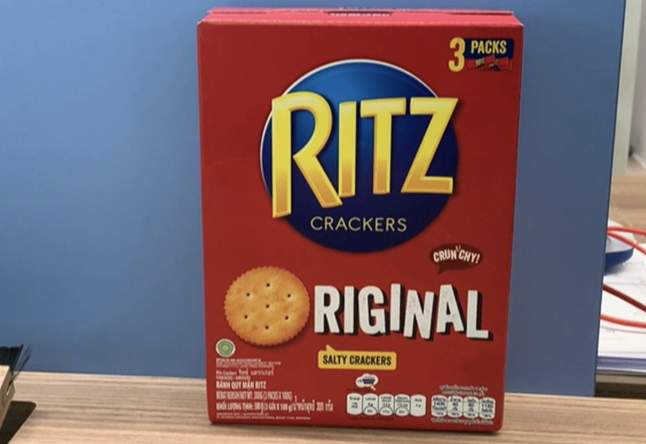crackers_450g: (213, 26, 506, 426)
